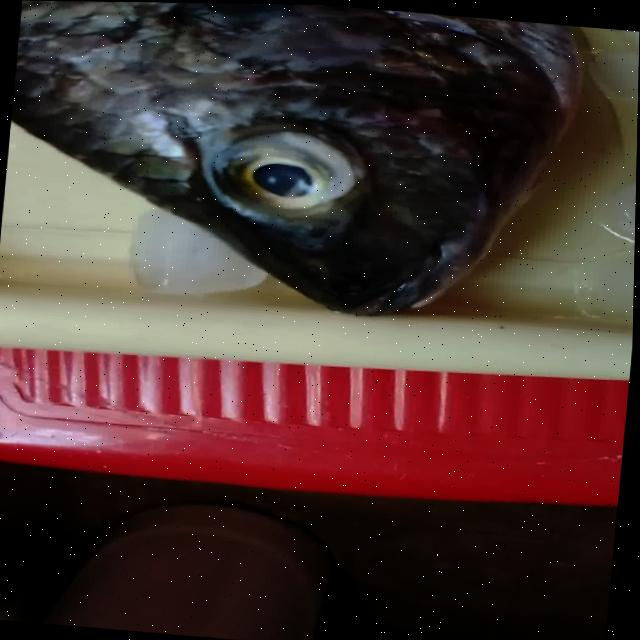Fresh: (190, 117, 382, 224)
